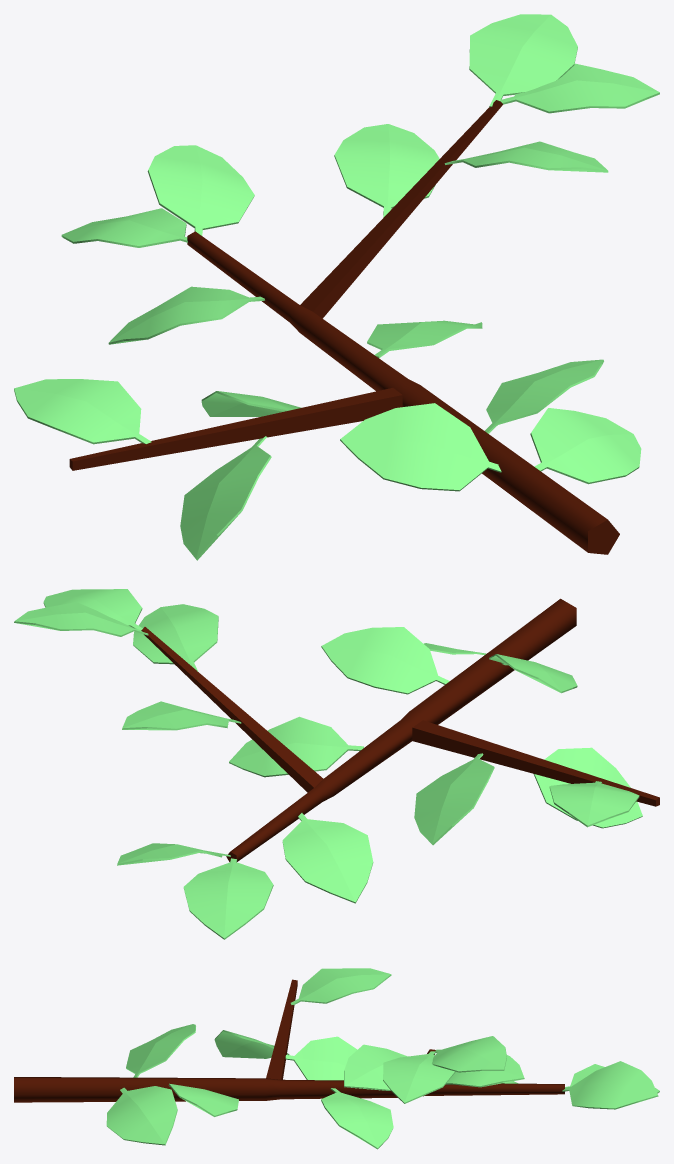
Rendered from Twig.fbx.
The picture shows the model from 3 angles, top to bottom: view 1: azimuth 30°, elevation 25°; view 2: azimuth 150°, elevation 25°; view 3: azimuth 270°, elevation 25°; orthographic projection. The views are drawn at different scales.
Visible parts, largest first — view 1: twig; view 2: twig; view 3: twig.
Part boxes in pixels (x1,y1,x2,y2): twig: (14,14,659,560); twig: (14,589,659,939); twig: (14,968,659,1149).
Bounding box in the file's own units: 1901 × 708 × 2344.
